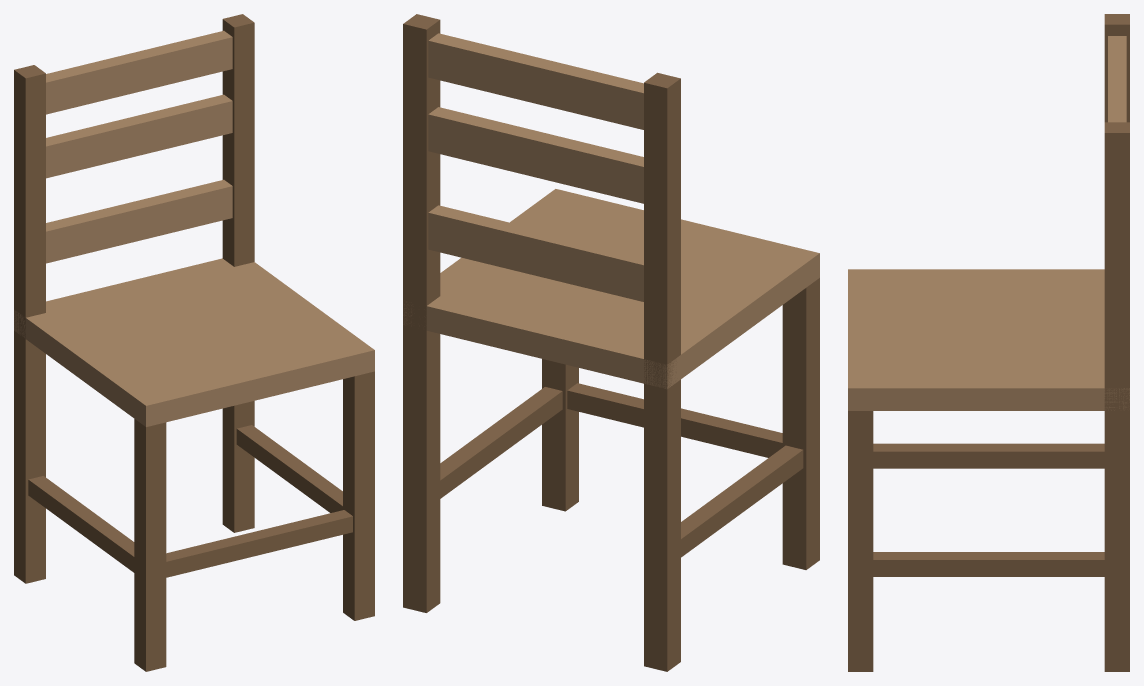
The model's file is SM_Saloon_Chair.glb.
The picture shows the model from 3 angles, left to right: view 1: azimuth 30°, elevation 25°; view 2: azimuth 150°, elevation 25°; view 3: azimuth 270°, elevation 25°; orthographic projection. The views are drawn at different scales.
Visible parts, largest first — view 1: SM_Saloon_Chair; view 2: SM_Saloon_Chair; view 3: SM_Saloon_Chair.
Part boxes in pixels (x1,y1,x2,y2): SM_Saloon_Chair: [14, 14, 374, 671]; SM_Saloon_Chair: [403, 14, 819, 671]; SM_Saloon_Chair: [848, 14, 1129, 671].
Size of the model in its own units: 0.45 by 0.95 by 0.45.
